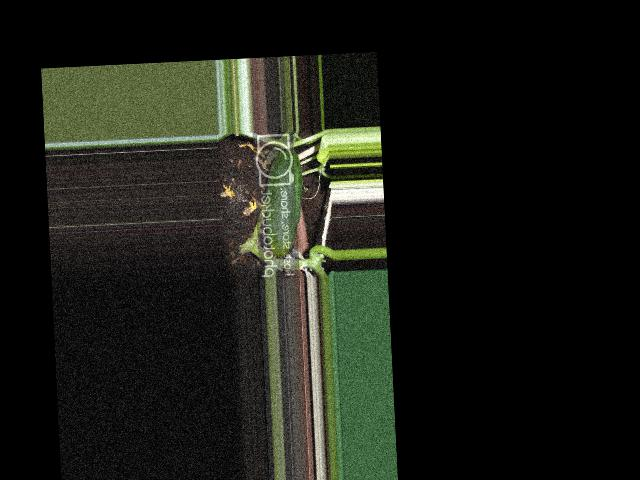cucumber: (261, 149, 305, 257)
